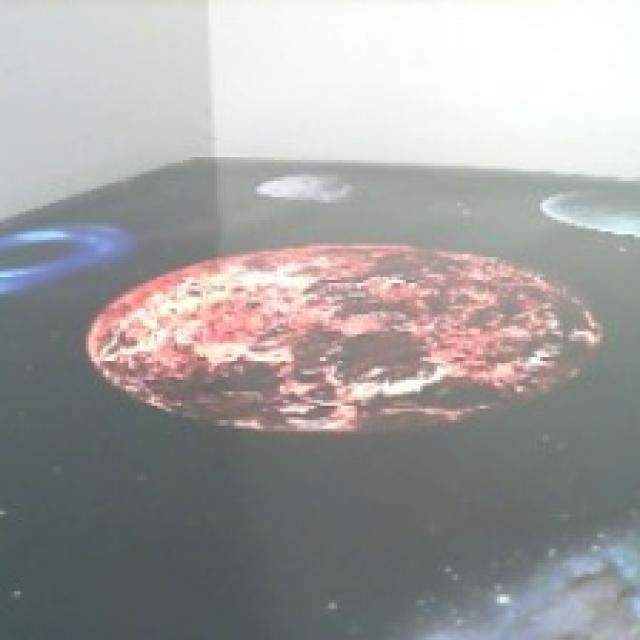Asteroid: (256, 171, 359, 203)
Black Hole: (0, 221, 133, 296)
Earth: (539, 184, 640, 240)
Galaxy: (397, 511, 640, 640)
Sun: (86, 244, 604, 434)
